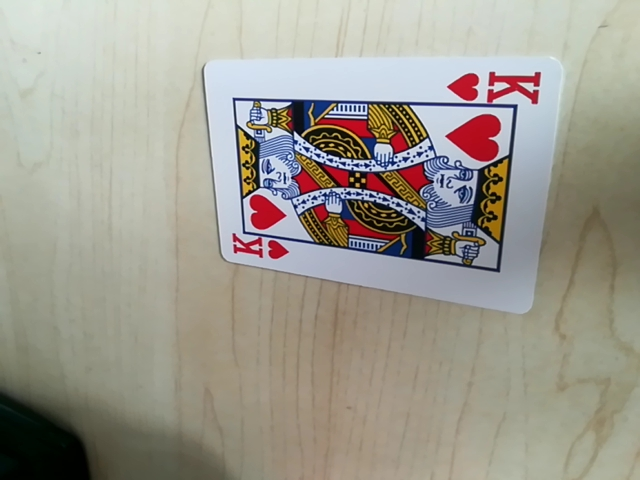hx k: (447, 63, 548, 109), (226, 233, 290, 264)
